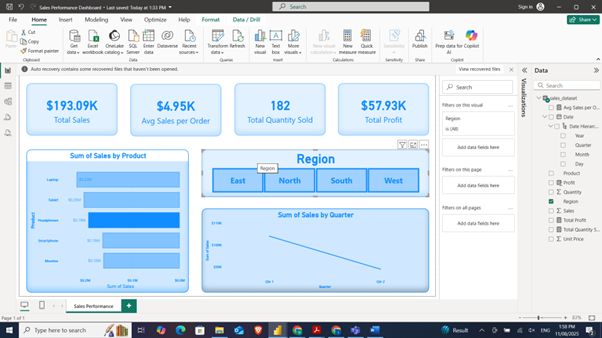

The dashboard page shown, as its layout file describes it:
{"tool":"powerbi","page":{"name":"Sales Performance","canvas":[1280,720],"ordinal":0},"visuals":[{"type":"card","fields":{"Values":["Sum(sales_dataset.Sales)"]},"box":[22,64.5,280,160.5],"z":0},{"type":"clusteredBarChart","fields":{"Category":["sales_dataset.Product"],"Y":["Sum(sales_dataset.Sales)"]},"box":[22,267.6,499.5,441.9],"z":1000},{"type":"slicer","title":"Region","fields":{"Values":["sales_dataset.Region"]},"box":[561.2,267.6,699.8,146.8],"z":2000},{"type":"lineChart","fields":{"Category":["sales_dataset.Date.Variation.Date Hierarchy.Year","sales_dataset.Date.Variation.Date Hierarchy.Quarter","sales_dataset.Date.Variation.Date Hierarchy.Month","sales_dataset.Date.Variation.Date Hierarchy.Day"],"Y":["Sum(sales_dataset.Sales)"]},"box":[561.2,450.1,699.8,259.3],"z":3000},{"type":"card","fields":{"Values":["sales_dataset.Avg Sales per Order"]},"box":[341.7,65.9,279.9,160.5],"z":4000},{"type":"card","fields":{"Values":["sales_dataset.Total Quantity Sold"]},"box":[662.8,64.5,279.9,160.5],"z":5000},{"type":"card","fields":{"Values":["sales_dataset.Total Profit"]},"box":[981.1,64.5,279.9,160.5],"z":6000}]}

Visuals, with their boxes on the page's 1280x720 design canvas (x1, y1, x2, y2). These are canvas units, not pixel positions in the 602x338 screenshot, which may show the page scaled, cropped or inside an application window:
card - Sum(sales_dataset.Sales): 22,64,302,225
clusteredBarChart - sales_dataset.Product x Sum(sales_dataset.Sales): 22,268,522,710
"Region" slicer: 561,268,1261,414
lineChart - sales_dataset.Date.Variation.Date Hierarchy.Year x sales_dataset.Date.Variation.Date Hierarchy.Quarter: 561,450,1261,709
card - sales_dataset.Avg Sales per Order: 342,66,622,226
card - sales_dataset.Total Quantity Sold: 663,64,943,225
card - sales_dataset.Total Profit: 981,64,1261,225
